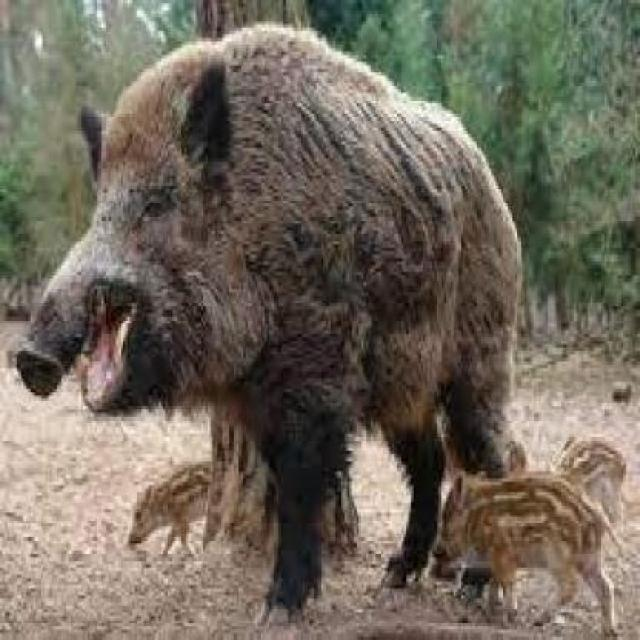wildboar: (8, 24, 529, 628), (428, 455, 628, 637), (496, 417, 632, 575), (122, 443, 256, 574)
